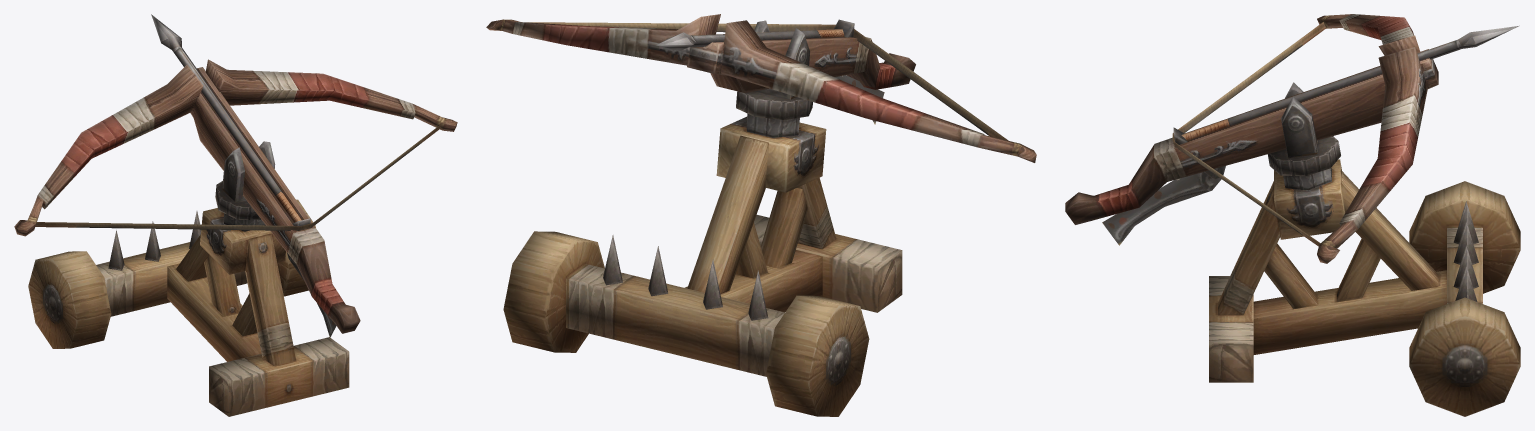
Rendered from Map_045_weapon04.FBX.
3 views of the same model, side by side, from view 1: azimuth 30°, elevation 25°; view 2: azimuth 150°, elevation 25°; view 3: azimuth 270°, elevation 25° (orthographic). The views are drawn at different scales.
Visible parts, largest first — view 1: Map_045_weapon04; view 2: Map_045_weapon04; view 3: Map_045_weapon04.
Boxes of the visible parts, x1,y1,x2,y2 form: Map_045_weapon04: (14,14,457,416); Map_045_weapon04: (486,14,1036,416); Map_045_weapon04: (1065,14,1520,416).
Size of the model in its own units: 182 by 114 by 145.
